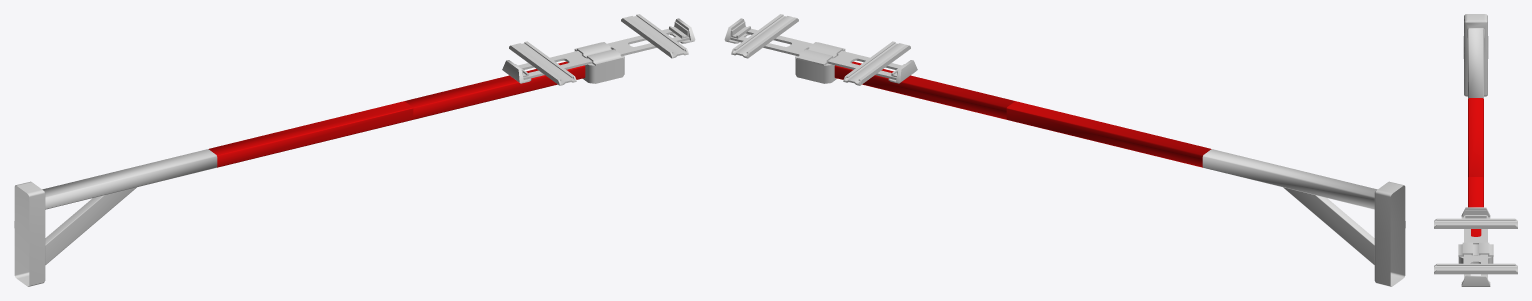
The model's file is WallConveyor-3.fbx.
3 renders of one model, left to right at view 1: azimuth 30°, elevation 25°; view 2: azimuth 150°, elevation 25°; view 3: azimuth 270°, elevation 25°, orthographic. The views are drawn at different scales.
Parts seen in each view (by area): view 1: SM_CPWall-3_Strut_long, SM_CPWall-3_Pole, SM_CPWall-3, SM_CPWall-3_Strut_base; view 2: SM_CPWall-3_Strut_long, SM_CPWall-3_Pole, SM_CPWall-3, SM_CPWall-3_Strut_base; view 3: SM_CPWall-3_Pole, SM_CPWall-3_Strut_long, SM_CPWall-3_Strut_base, SM_CPWall-3.
Part boxes in pixels (left/top/right/bottom): SM_CPWall-3_Strut_long: left=208, top=61, right=585, bottom=167; SM_CPWall-3_Pole: left=502, top=14, right=695, bottom=85; SM_CPWall-3: left=14, top=181, right=136, bottom=286; SM_CPWall-3_Strut_base: left=42, top=149, right=217, bottom=209; SM_CPWall-3_Strut_long: left=834, top=61, right=1211, bottom=167; SM_CPWall-3_Pole: left=724, top=14, right=917, bottom=85; SM_CPWall-3: left=1283, top=181, right=1405, bottom=286; SM_CPWall-3_Strut_base: left=1202, top=149, right=1377, bottom=209; SM_CPWall-3_Pole: left=1434, top=207, right=1517, bottom=286; SM_CPWall-3_Strut_long: left=1468, top=98, right=1483, bottom=236; SM_CPWall-3_Strut_base: left=1468, top=28, right=1483, bottom=98; SM_CPWall-3: left=1463, top=14, right=1488, bottom=96.
Size of the model in its own units: 677 by 95.2 by 89.92.
